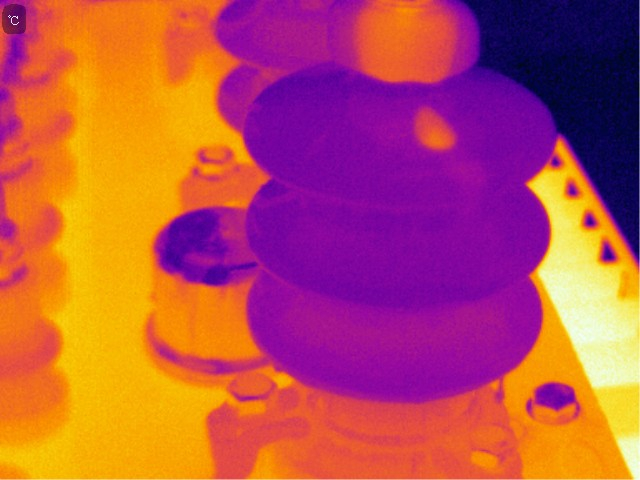Oil: (350, 1, 463, 89), (407, 103, 460, 156), (494, 373, 508, 405), (270, 357, 288, 376)
